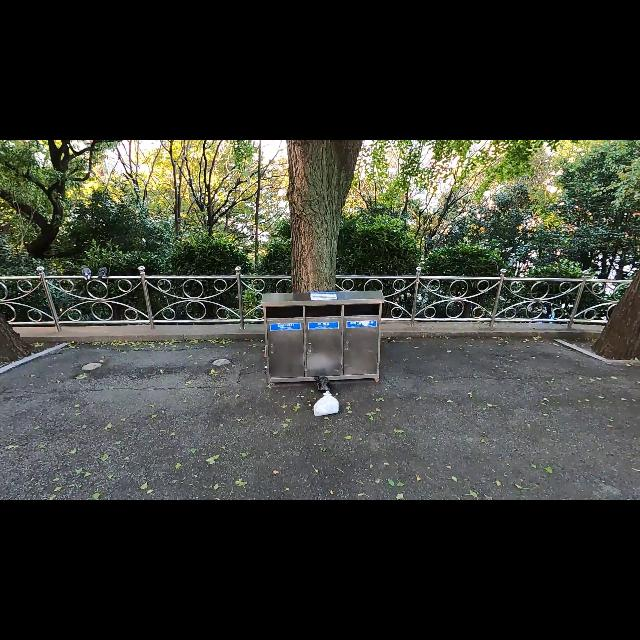trash: (312, 390, 340, 418), (312, 374, 330, 392)
